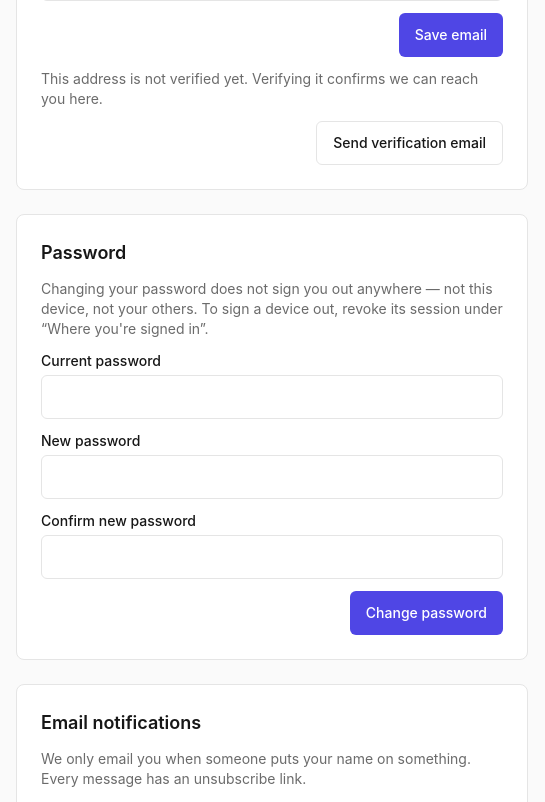
Test case: Account › changes the password and keeps the session it already had
(page scrolled)
Type "oldpass12" into the password field labelled "Current password". click: (272, 397)
box: [41,375,503,419]
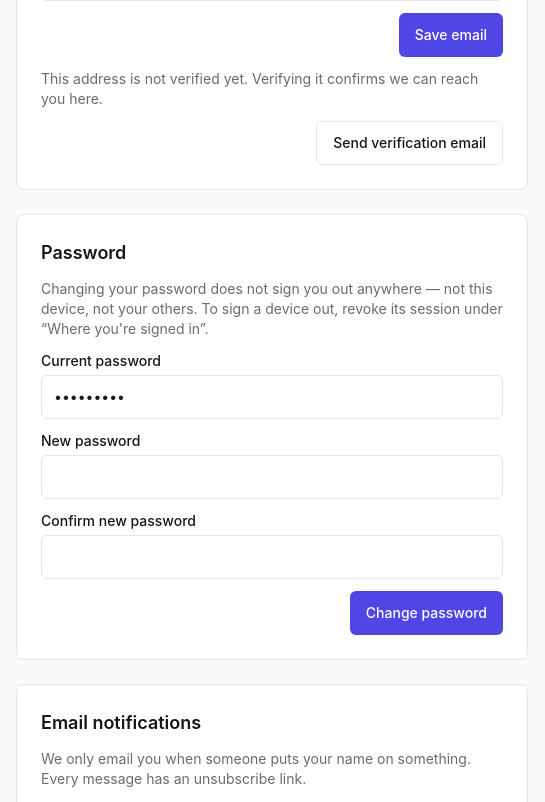
Type "newpass12" into the password field labelled "New password". click: (272, 477)
box: [41,455,503,499]
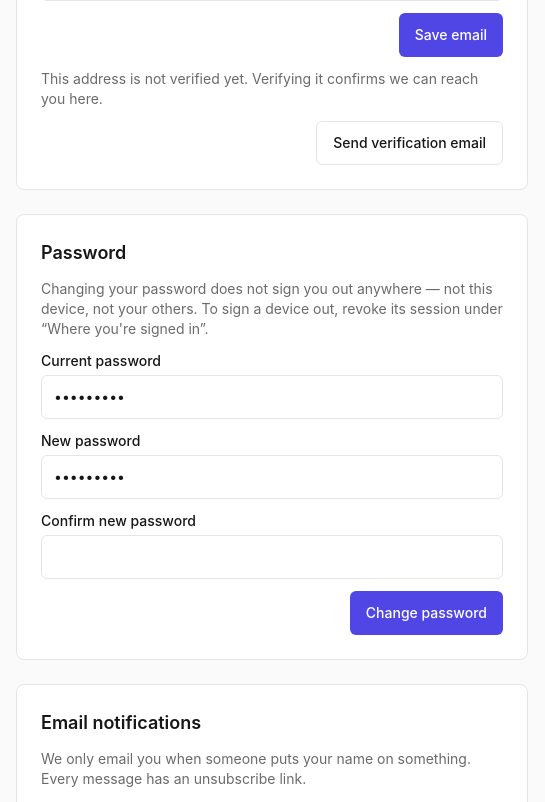
Type "newpass12" into the password field labelled "Confirm new password". click: (272, 557)
box: [41,535,503,579]
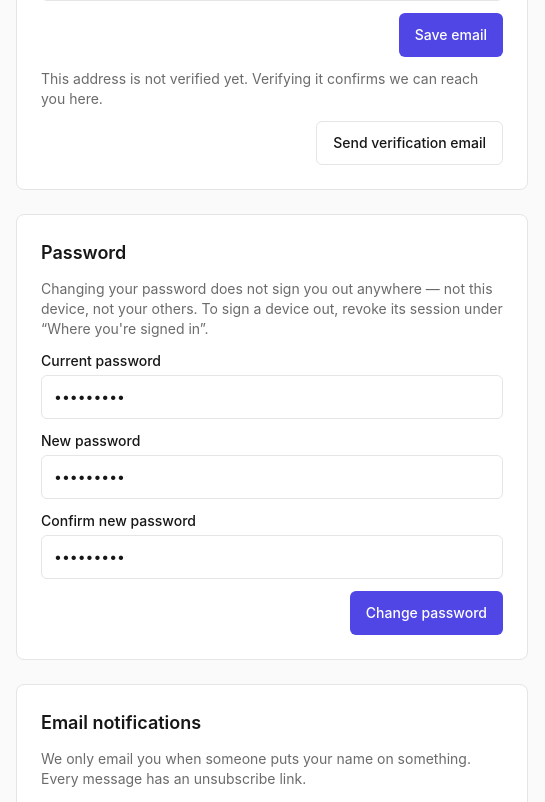
Click the button "Change password". click: click(426, 613)
box: [350,591,503,635]
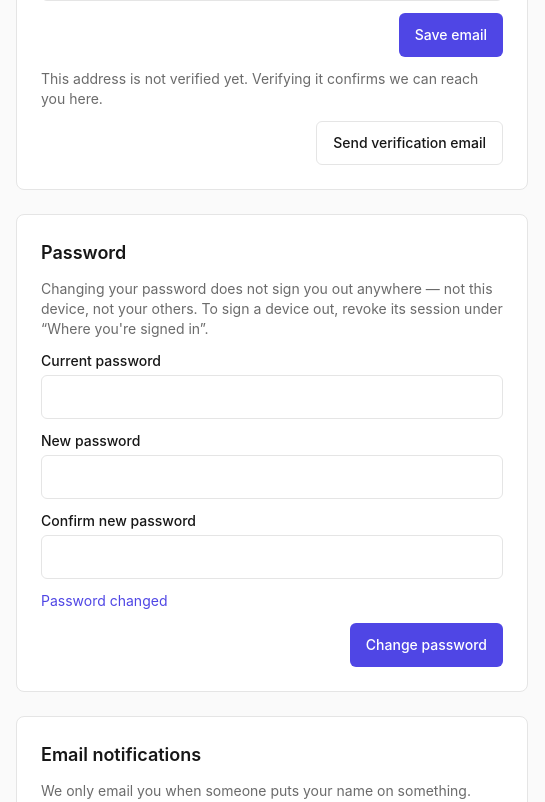
Result: the text "Password changed" is shown at [41,592,168,609]
Result: the password field labelled "Current password" is empty at [41,375,503,419]
Result: the password field labelled "New password" is empty at [41,455,503,499]
